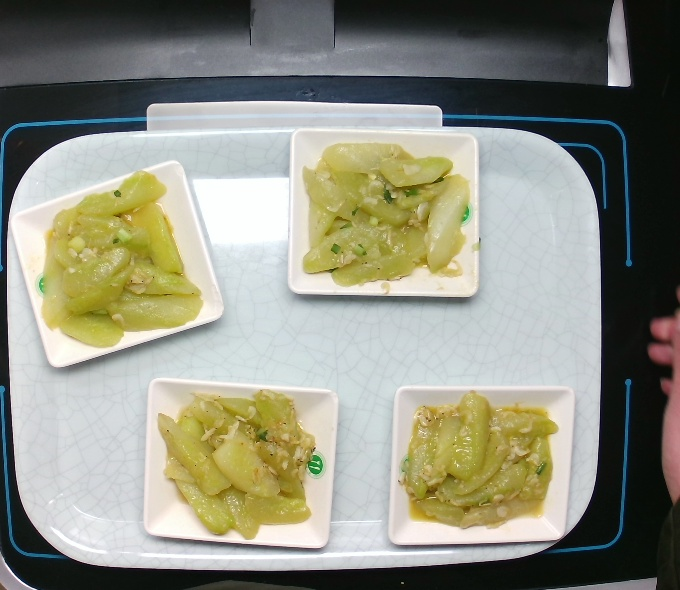wcq-HuangGua: (31, 164, 205, 347), (294, 138, 478, 292), (153, 391, 319, 541), (396, 395, 562, 530)
